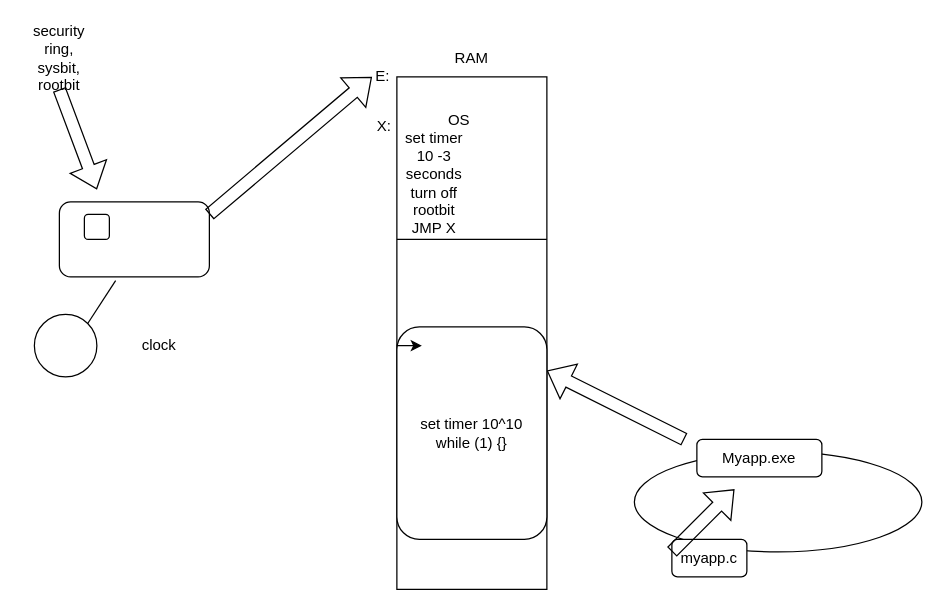
Some shapes in this 944 by 611 pixel diagram are drawn without their labels. Each missing label, with the box of its shape:
CPU: (58, 201, 209, 277)
Disk: (633, 451, 922, 552)
